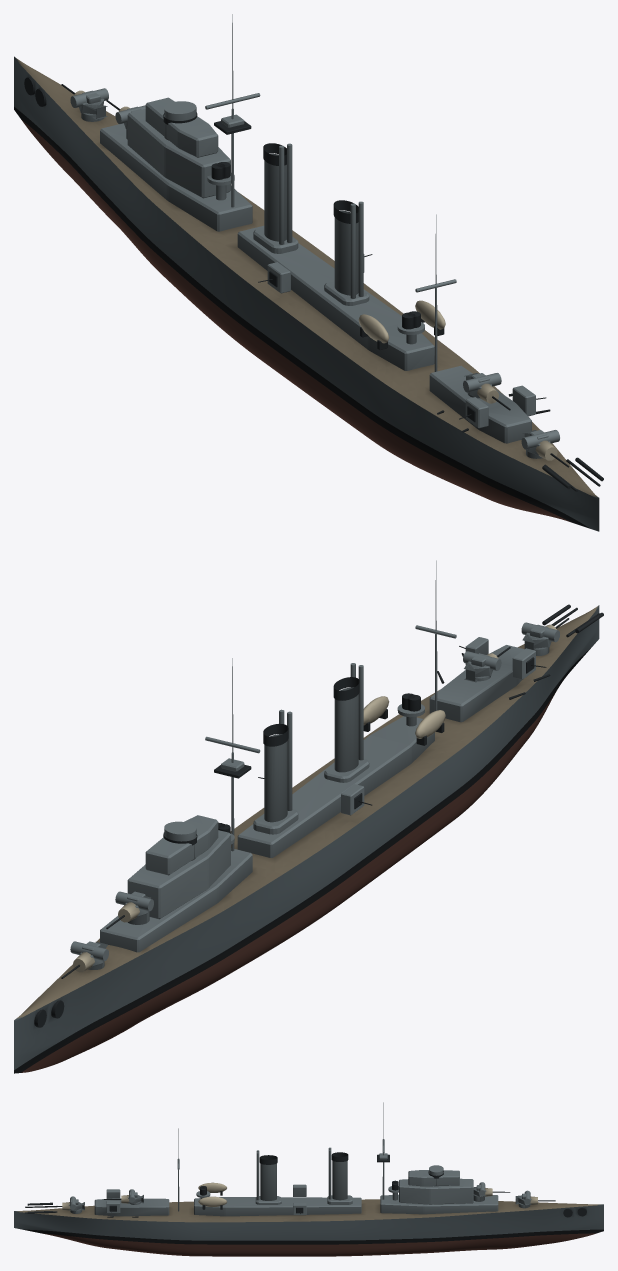
The model's file is hms-walker.glb.
The picture shows the model from 3 angles, top to bottom: view 1: azimuth 30°, elevation 25°; view 2: azimuth 150°, elevation 25°; view 3: azimuth 270°, elevation 25°; orthographic projection. The views are drawn at different scales.
Parts seen in each view (by area): view 1: hms-walker; view 2: hms-walker; view 3: hms-walker.
Boxes of the visible parts, x1=… form: hms-walker: x1=14, y1=14, x2=603, y2=531; hms-walker: x1=14, y1=560, x2=603, y2=1073; hms-walker: x1=14, y1=1102, x2=603, y2=1256.
Size of the model in its own units: 10.67 by 26.1 by 95.
